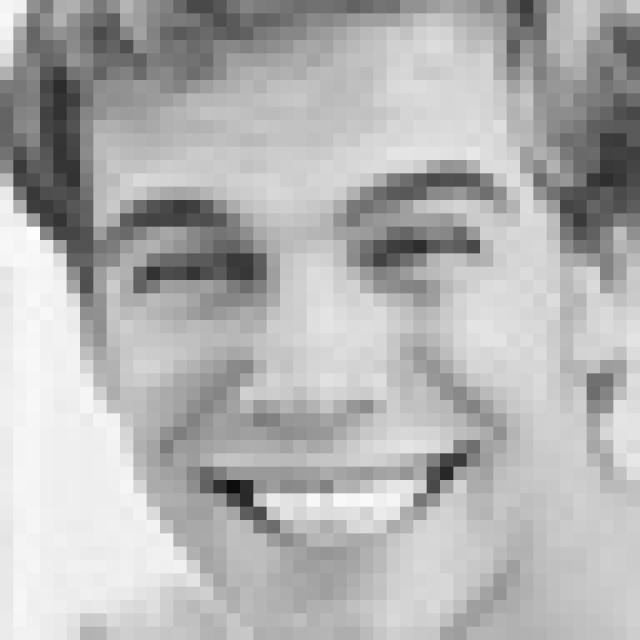happy: (99, 160, 521, 582)
